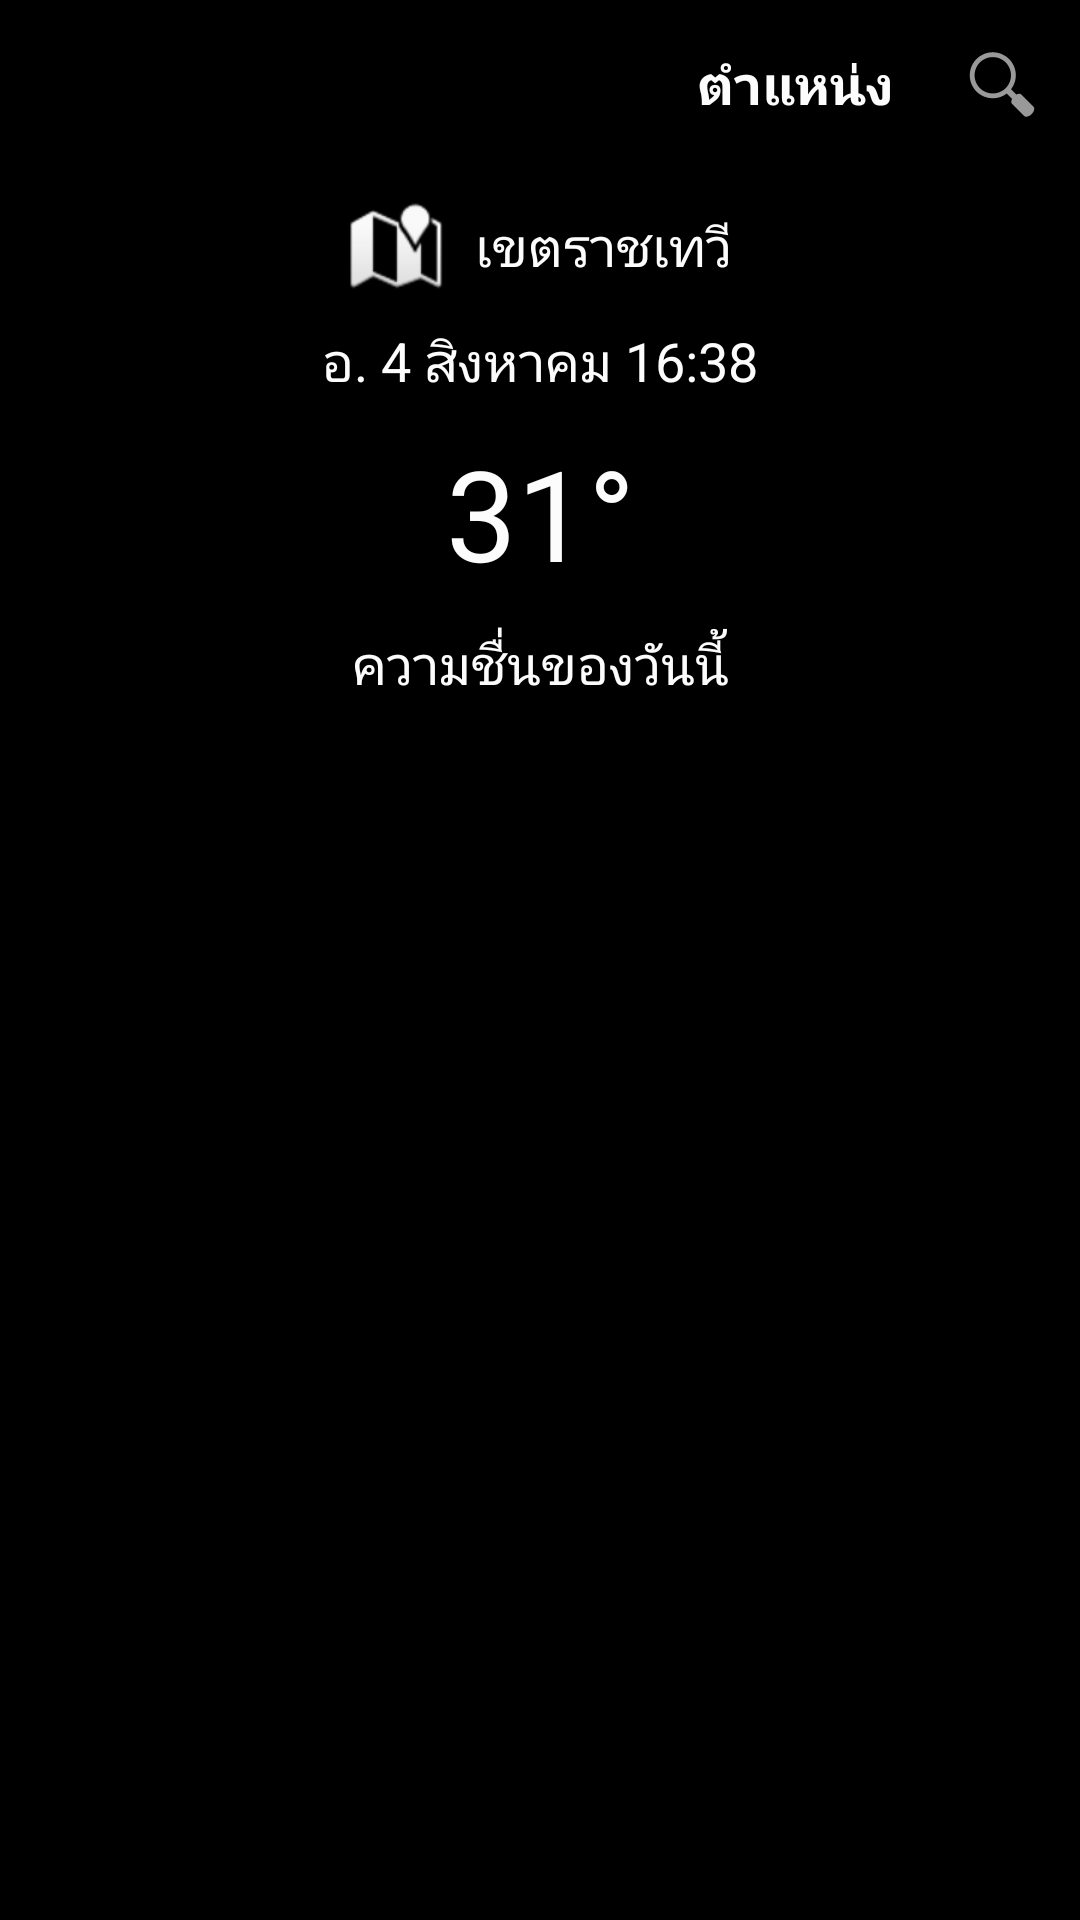

Screen size 1080x1920. Icon name, then its center in pixels as (x,y):
search: (1002,84)
